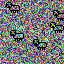sheep: (10, 29, 24, 41), (33, 39, 47, 51), (6, 2, 20, 13), (50, 22, 64, 33), (53, 9, 64, 21)
